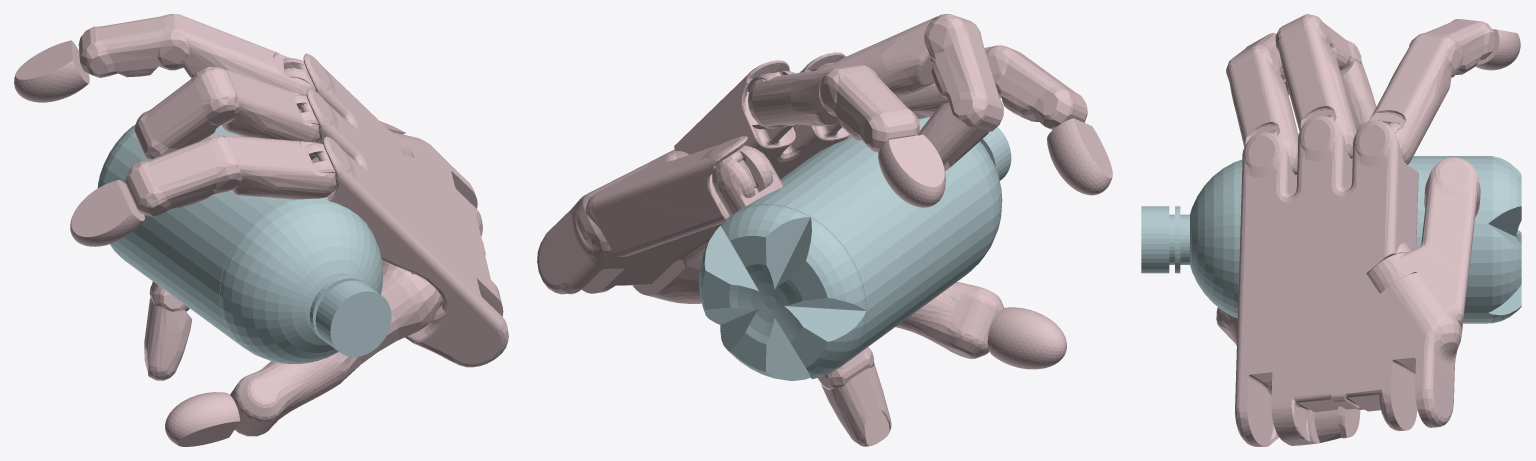
The model's file is grasp_3.glb.
3 views of the same model, side by side, from view 1: azimuth 30°, elevation 25°; view 2: azimuth 150°, elevation 25°; view 3: azimuth 270°, elevation 25° (orthographic). The views are drawn at different scales.
Visible parts, largest first — view 1: world; view 2: world; view 3: world.
Boxes of the visible parts, box(x1,y1,x2,y2) form: world: box(14, 14, 508, 446); world: box(537, 14, 1112, 446); world: box(1141, 14, 1521, 446).
Bounding box in the file's own units: 0.1852 × 0.1357 × 0.1365.
